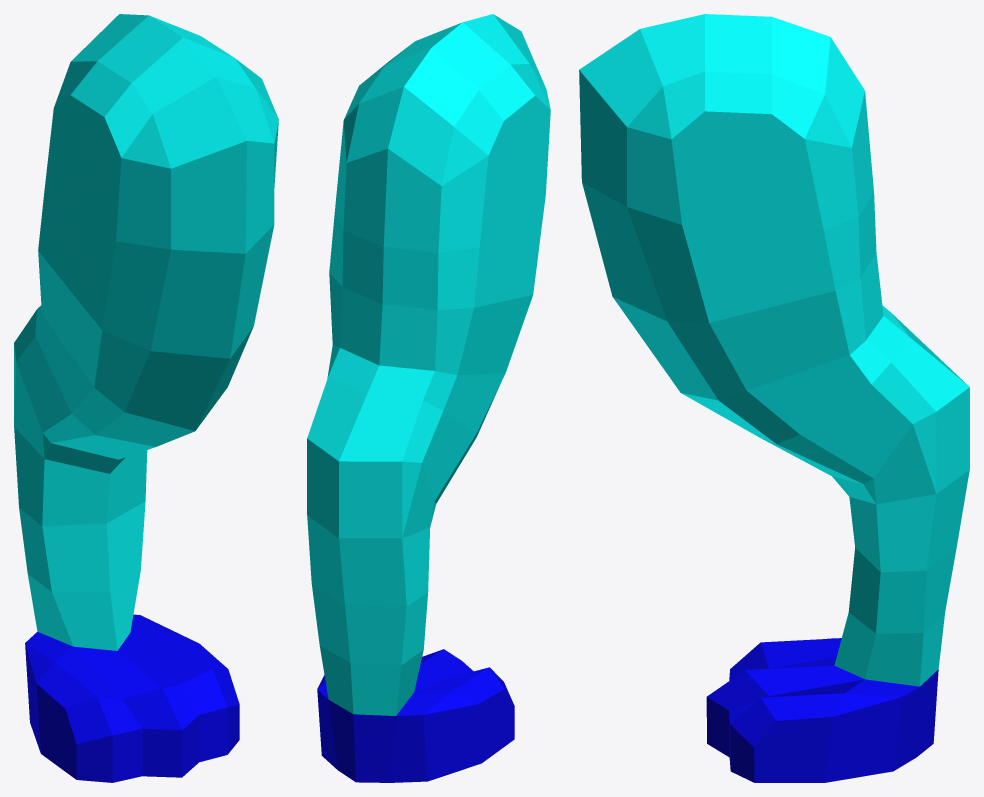
The model's file is Mo_Twolf_Leg.fbx.
The picture shows the model from 3 angles, left to right: view 1: azimuth 30°, elevation 25°; view 2: azimuth 150°, elevation 25°; view 3: azimuth 270°, elevation 25°; orthographic projection. The views are drawn at different scales.
Visible parts, largest first — view 1: Leg.001; view 2: Leg.001; view 3: Leg.001.
Boxes of the visible parts, <box> form: Leg.001: <box>14,14,278,782</box>; Leg.001: <box>307,14,550,782</box>; Leg.001: <box>579,14,969,782</box>.
Size of the model in its own units: 171 by 741 by 360.
